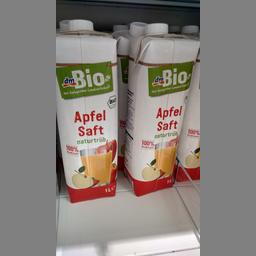juice: (124, 22, 196, 192), (56, 20, 118, 202)
